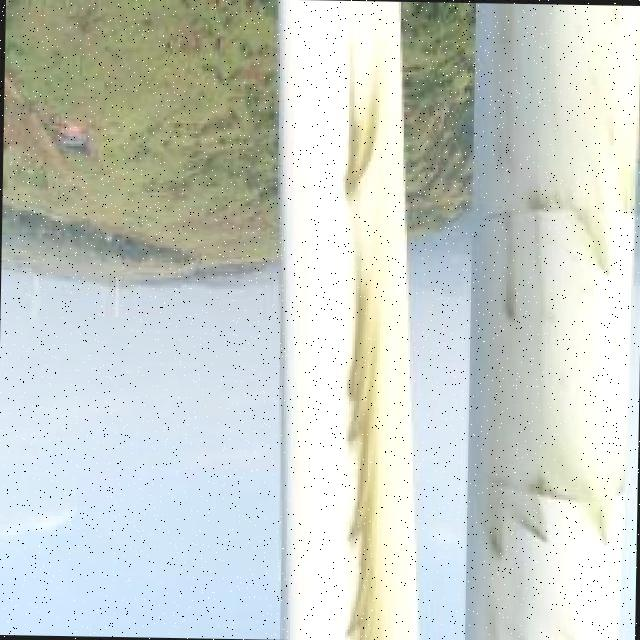Dirt: (481, 0, 640, 557), (342, 21, 407, 640)
